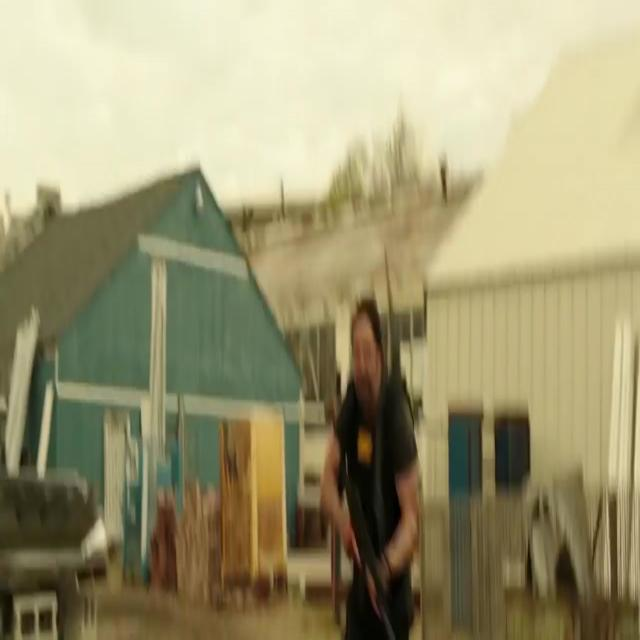Weapon: (330, 447, 400, 640)
